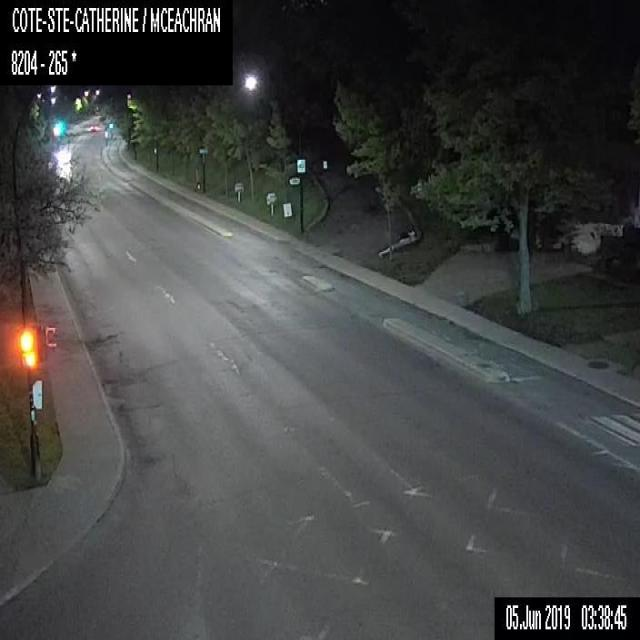vehicle: (90, 124, 97, 130)
